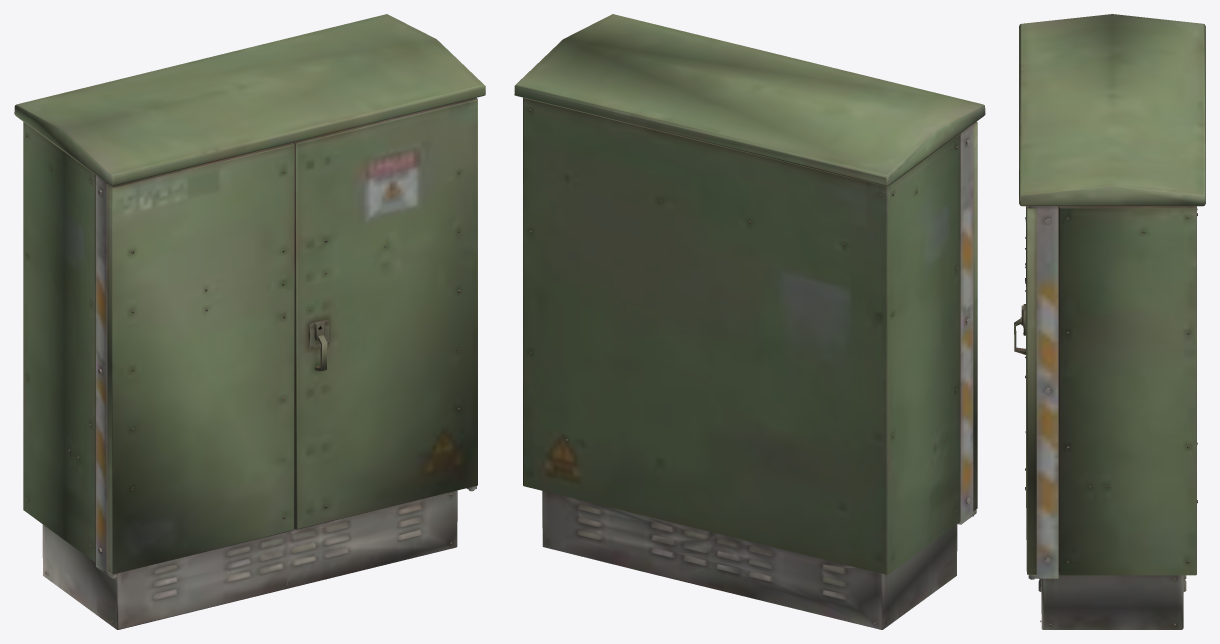
The model's file is armoire_electrique_lod1.glb.
The picture shows the model from 3 angles, left to right: view 1: azimuth 30°, elevation 25°; view 2: azimuth 150°, elevation 25°; view 3: azimuth 270°, elevation 25°; orthographic projection. The views are drawn at different scales.
Parts seen in each view (by area): view 1: utility_box_02; view 2: utility_box_02; view 3: utility_box_02.
Boxes of the visible parts, box(x1,y1,x2,y2) form: utility_box_02: box(14, 14, 485, 629); utility_box_02: box(514, 14, 985, 629); utility_box_02: box(1014, 14, 1205, 629).
Size of the model in its own units: 0.92 by 1.12 by 0.4311.
1 material, 1 textured.
